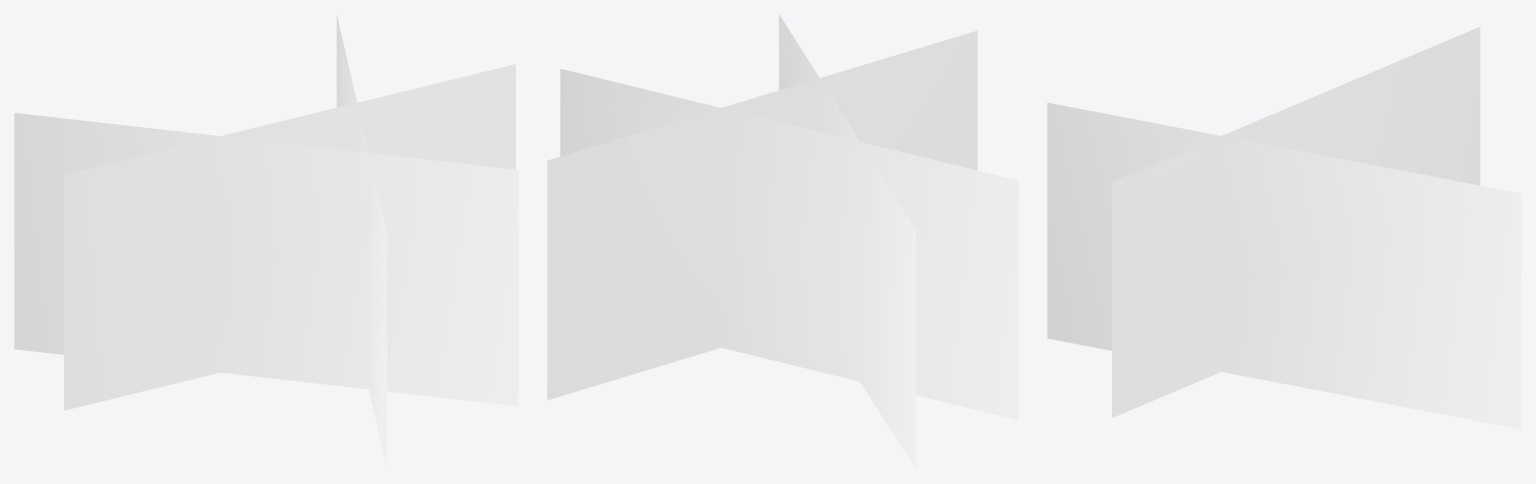
The model's file is SM_Env_Grass_Med_Clump_01.glb.
The picture shows the model from 3 angles, left to right: view 1: azimuth 30°, elevation 25°; view 2: azimuth 150°, elevation 25°; view 3: azimuth 270°, elevation 25°; orthographic projection.
Visible parts, largest first — view 1: SM_Env_Grass_Med_Clump_01_LOD0; view 2: SM_Env_Grass_Med_Clump_01_LOD0; view 3: SM_Env_Grass_Med_Clump_01_LOD0.
Part boxes in pixels (<box>): SM_Env_Grass_Med_Clump_01_LOD0: <box>14,14,518,468</box>; SM_Env_Grass_Med_Clump_01_LOD0: <box>547,14,1018,469</box>; SM_Env_Grass_Med_Clump_01_LOD0: <box>1047,27,1521,429</box>.
Size of what is drawn, in the model's own units: 1 by 0.5 by 0.9104.
Materials: 1 (1 with a texture image).
